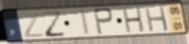H: (143, 5, 170, 34), (122, 6, 146, 34)
I: (79, 9, 92, 37)
P: (92, 7, 115, 37)
Z: (39, 10, 68, 39), (18, 11, 44, 39)
